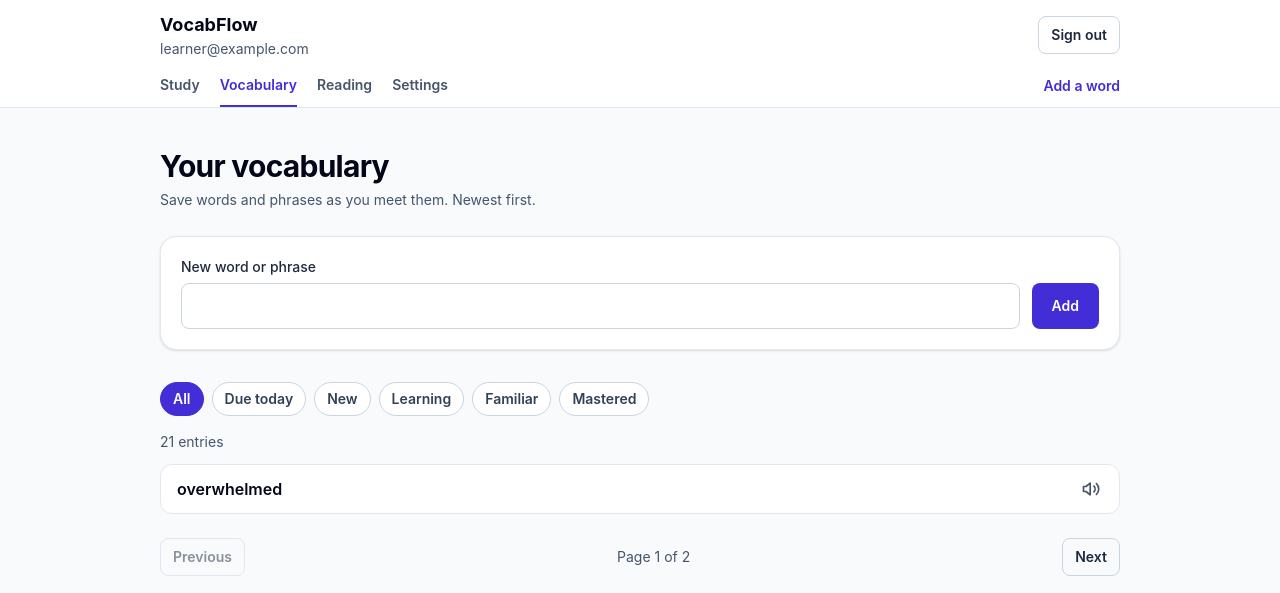
Test: keeps focus on the same control when only the page number changes
The image size is (1280, 593).
Expected: the text "Page 1 of 2" is shown, [617,547,690,567]
Click the button "Next": (1091, 557) [1062,538,1120,576]
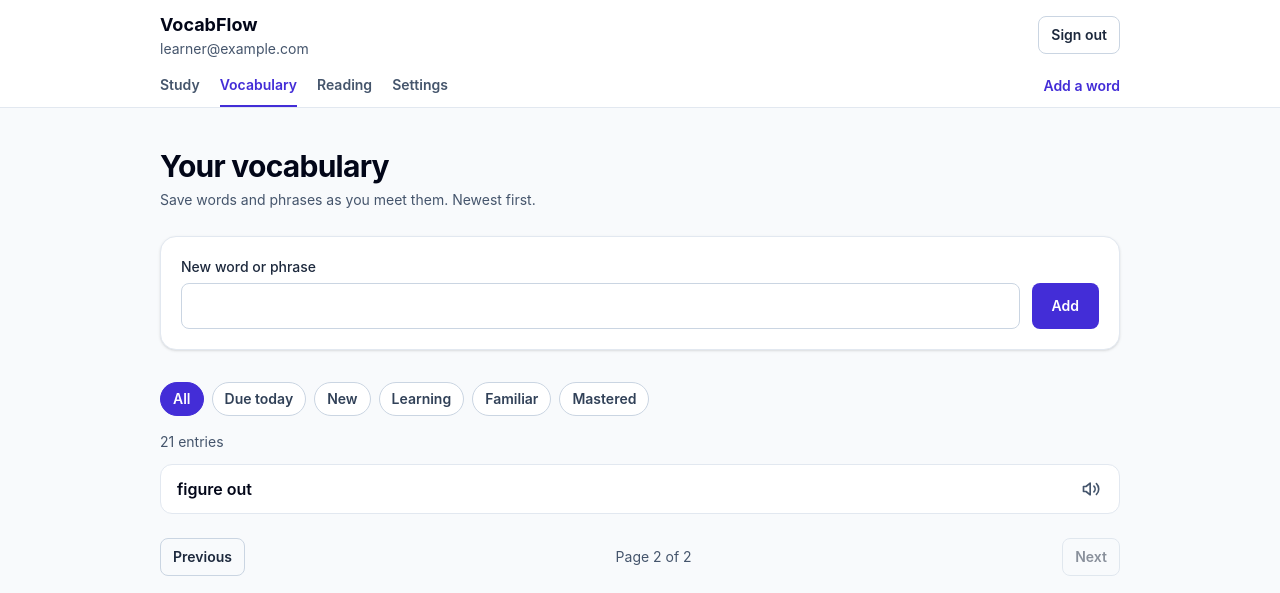
Now the text "figure out" is shown, box [177,477,252,501]
